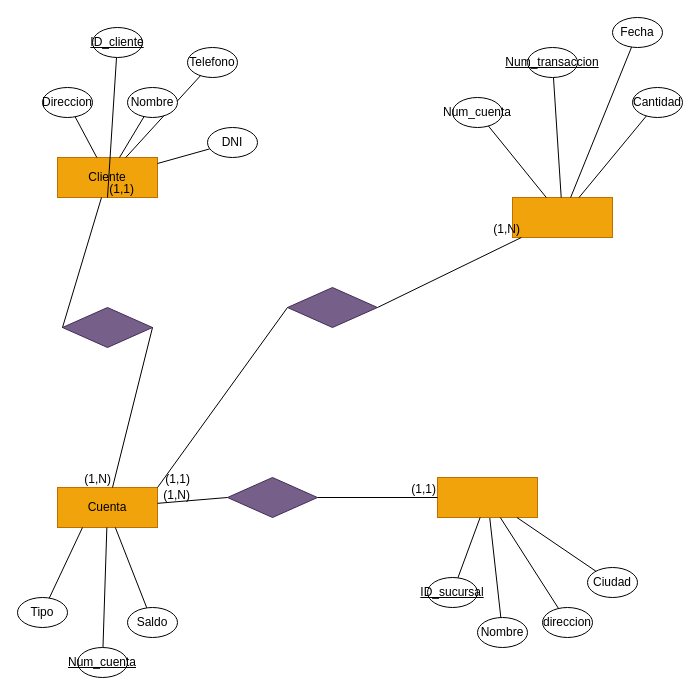
Image size: 700x695. Some labels were removed from this diagram. Each missing label, with the centre of its shape:
Pertenece: point (332, 307)
Sucursal: point (487, 497)
Tiene: point (272, 497)
Titularidad: point (107, 327)
Transaccion: point (562, 217)
